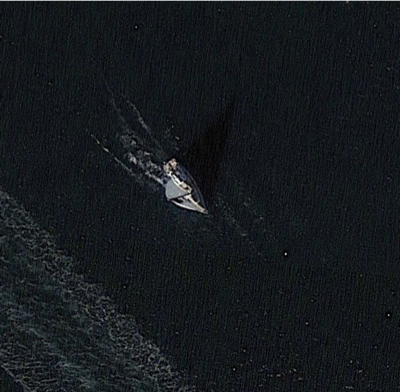boat: (161, 157, 210, 216)
